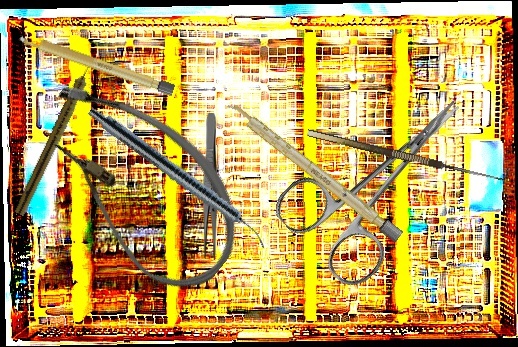Cannula: (3, 58, 271, 311)
Dressing Forceps: (202, 113, 217, 259)
Handpiece: (83, 103, 274, 251), (13, 59, 99, 218)
Hook Surgical: (306, 118, 510, 186)
Iris Scissors: (267, 63, 502, 295)
Scalpel Handle: (224, 98, 404, 244), (17, 30, 176, 97)
